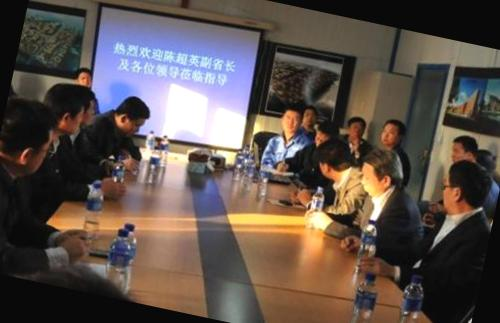no_helmet: (431, 152, 499, 224), (0, 90, 64, 164), (40, 77, 100, 146), (358, 148, 412, 208), (308, 130, 362, 186), (109, 89, 156, 144), (373, 114, 410, 156), (444, 129, 482, 169), (274, 101, 310, 140), (310, 116, 341, 153), (70, 64, 102, 94), (344, 114, 370, 144), (301, 104, 322, 128)
